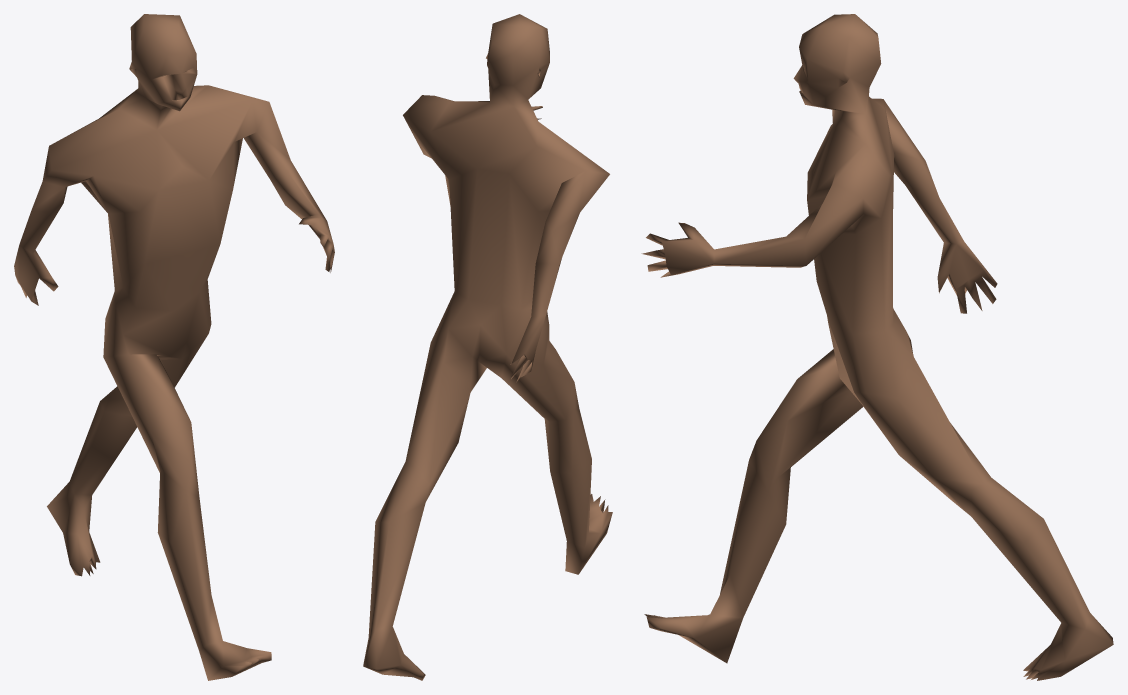
Rendered from obs_000016.obj.
The picture shows the model from 3 angles, left to right: view 1: azimuth 30°, elevation 25°; view 2: azimuth 150°, elevation 25°; view 3: azimuth 270°, elevation 25°; orthographic projection. The views are drawn at different scales.
Visible parts, largest first — view 1: 1-base_1-base.008; view 2: 1-base_1-base.008; view 3: 1-base_1-base.008.
Part boxes in pixels (left/top/right/bottom): 1-base_1-base.008: left=14, top=14, right=334, bottom=680; 1-base_1-base.008: left=363, top=14, right=612, bottom=680; 1-base_1-base.008: left=641, top=14, right=1113, bottom=680.
Size of the model in its own units: 0.4531 by 1.24 by 0.8195.
